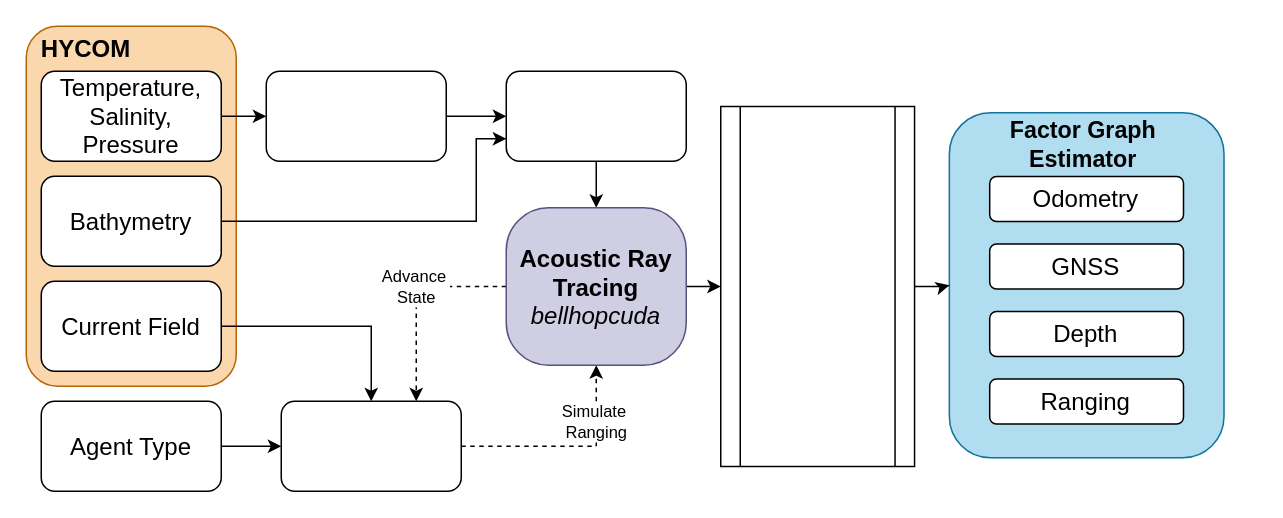
This 1283x518 diagram has some shape labels left out. Each missing label, with the centre of its shape:
"Acoustic Environment" belongs at point (595, 115).
"Agent Motion" belongs at point (370, 445).
"Measurement Corruption" belongs at point (817, 285).
"SSP" belongs at point (355, 115).
